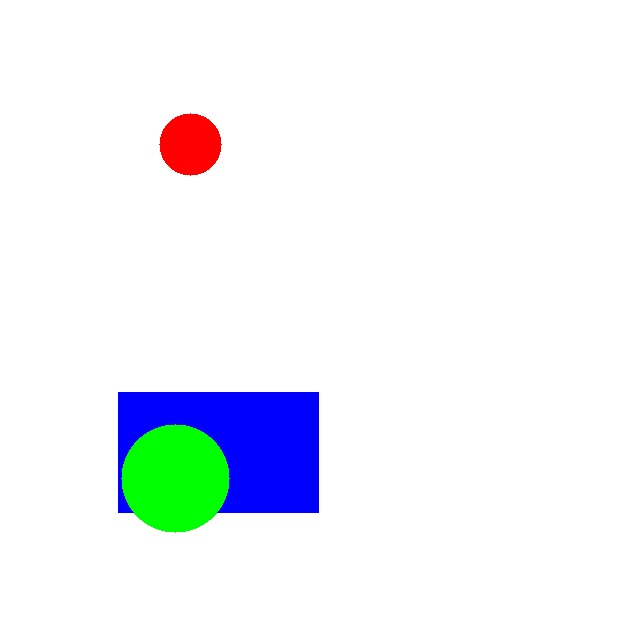cartao: (118, 392, 318, 512)
rosca_externa: (121, 424, 229, 532)
rosca_interna: (159, 113, 221, 175)
